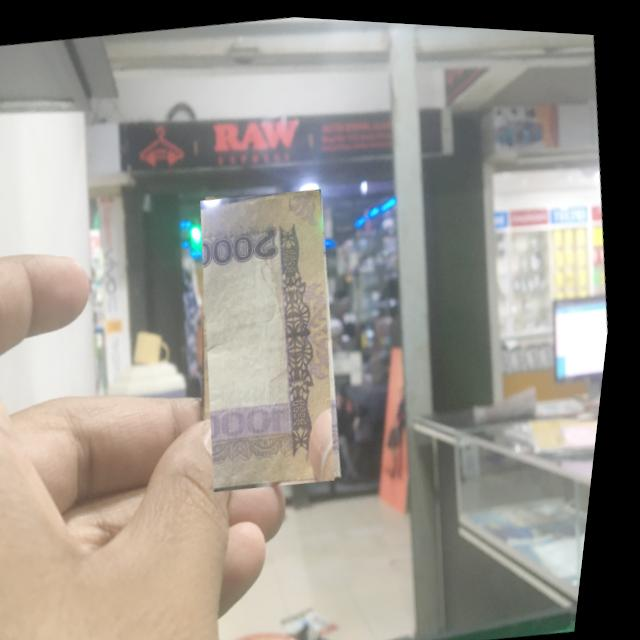Taka: (179, 179, 370, 494)
